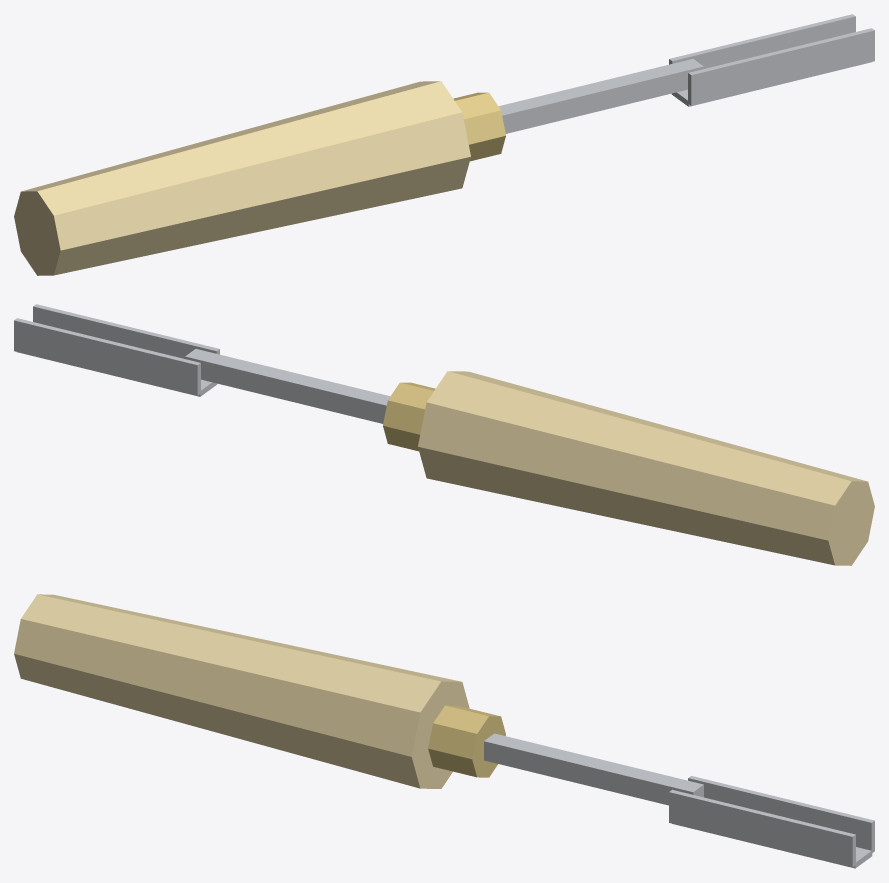
Rendered from prop-veiner-gouge.fbx.
3 views of the same model, one above another, from view 1: azimuth 30°, elevation 25°; view 2: azimuth 150°, elevation 25°; view 3: azimuth 330°, elevation 25° (orthographic).
Parts seen in each view (by area): view 1: prop-veiner-gouge; view 2: prop-veiner-gouge; view 3: prop-veiner-gouge.
Part boxes in pixels (x1,y1,x2,y2): prop-veiner-gouge: (14,14,874,275); prop-veiner-gouge: (14,304,874,565); prop-veiner-gouge: (14,594,874,868).
Bounding box in the file's own units: 22.5 × 2.8 × 2.8.
